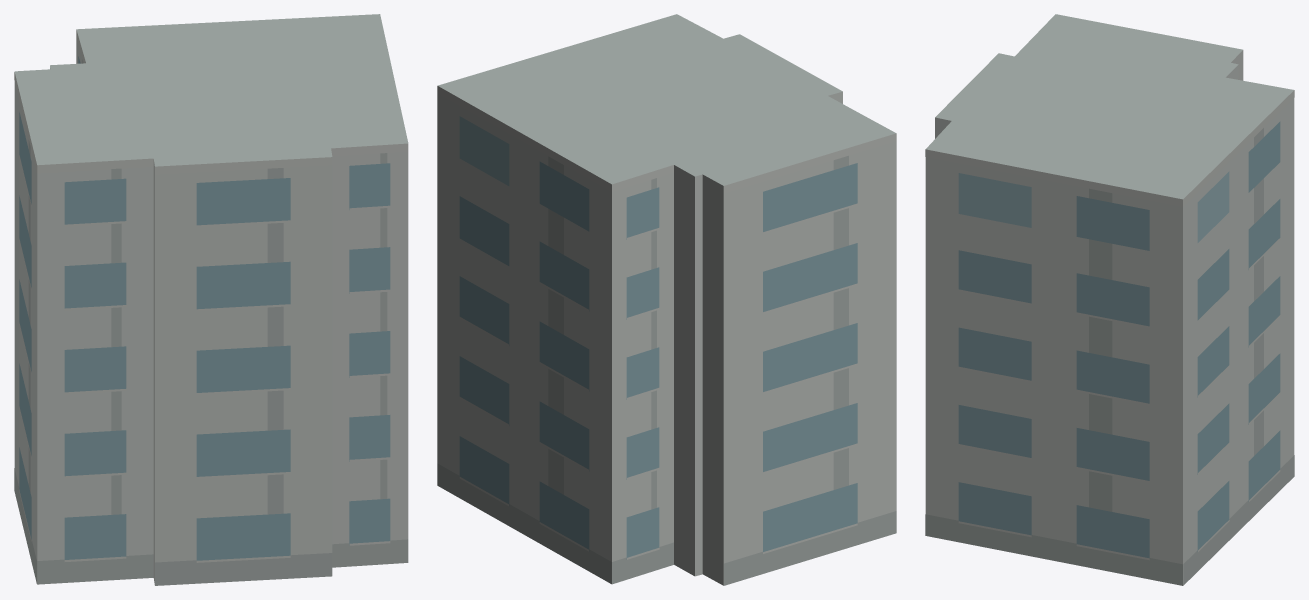
Rendered from survey-upis-32669517.glb.
3 renders of one model, left to right at view 1: azimuth 30°, elevation 25°; view 2: azimuth 150°, elevation 25°; view 3: azimuth 270°, elevation 25°, orthographic. The views are drawn at different scales.
Visible parts, largest first — view 1: survey-upis-32669517.tmp; view 2: survey-upis-32669517.tmp; view 3: survey-upis-32669517.tmp.
Part boxes in pixels (left/top/right/bottom): survey-upis-32669517.tmp: left=14, top=14, right=408, bottom=585; survey-upis-32669517.tmp: left=437, top=14, right=896, bottom=585; survey-upis-32669517.tmp: left=925, top=14, right=1294, bottom=585.
Bounding box in the file's own units: 12.87 × 12.5 × 10.82.
